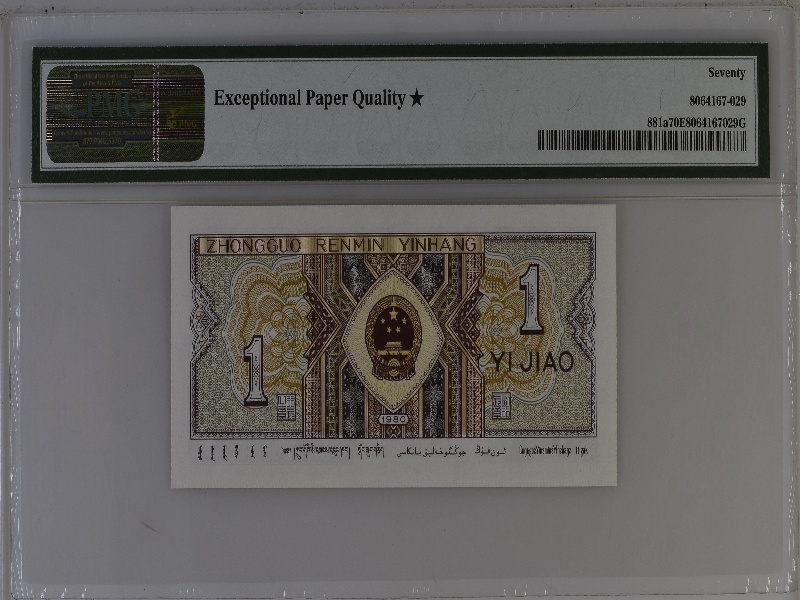papernote: (168, 203, 620, 490)
